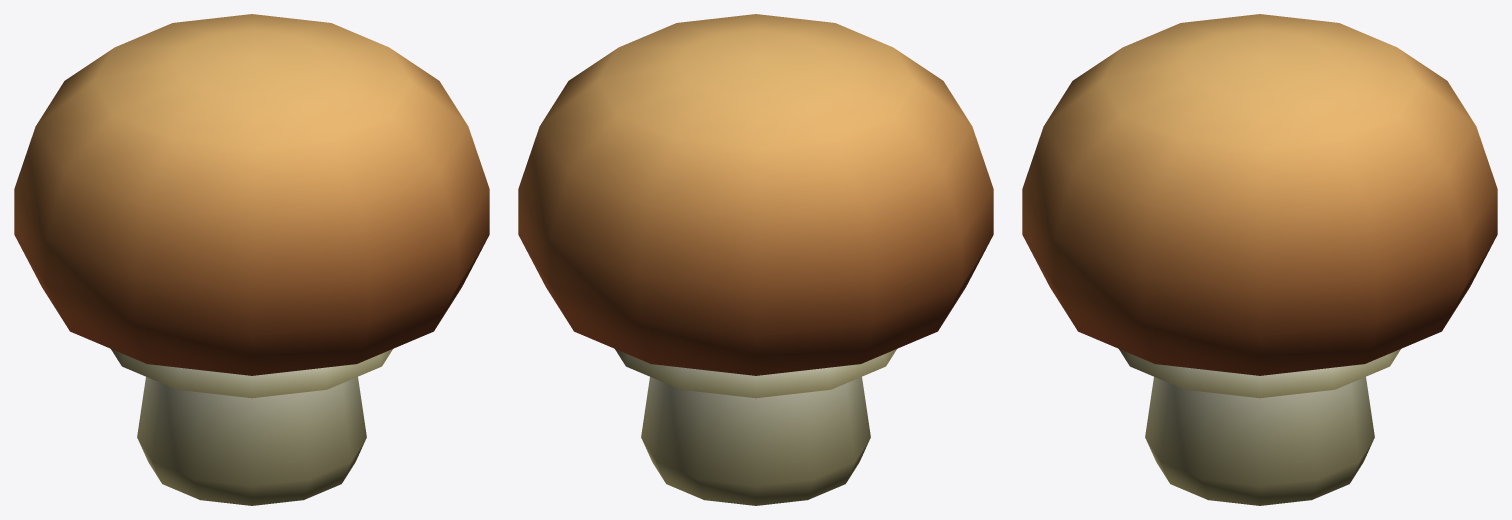
File: Bell_Mushroom_01.glb
The picture shows the model from 3 angles, left to right: view 1: azimuth 30°, elevation 25°; view 2: azimuth 150°, elevation 25°; view 3: azimuth 270°, elevation 25°; orthographic projection.
Parts seen in each view (by area): view 1: Bell_Mushroom_01; view 2: Bell_Mushroom_01; view 3: Bell_Mushroom_01.
Part boxes in pixels (x1,y1,x2,y2): Bell_Mushroom_01: (14,14,489,505); Bell_Mushroom_01: (518,14,993,505); Bell_Mushroom_01: (1022,14,1497,505).
Bounding box in the file's own units: 0.3093 × 0.2974 × 0.3093.
Materials: 1 (1 with a texture image).
